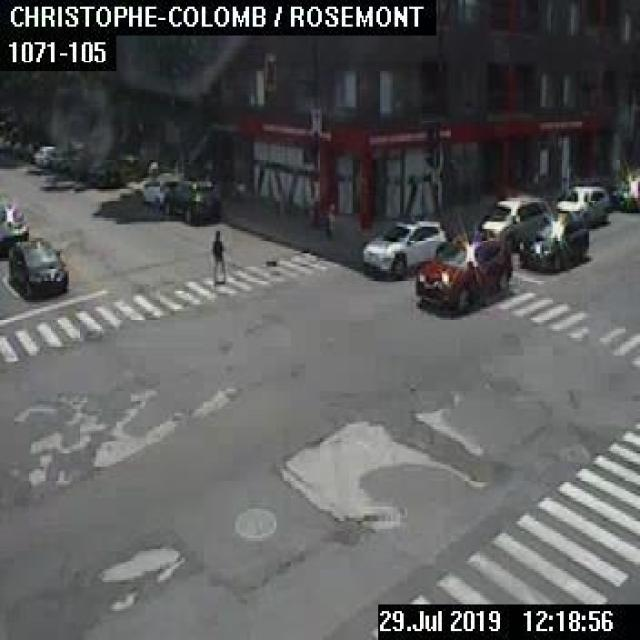pedestrian: (209, 228, 224, 282)
vehicle: (414, 229, 512, 312), (360, 219, 444, 276), (517, 212, 587, 270), (7, 237, 67, 298), (481, 196, 550, 242), (162, 178, 216, 216), (556, 184, 608, 222), (0, 202, 27, 246), (142, 177, 178, 202), (32, 144, 54, 164)
